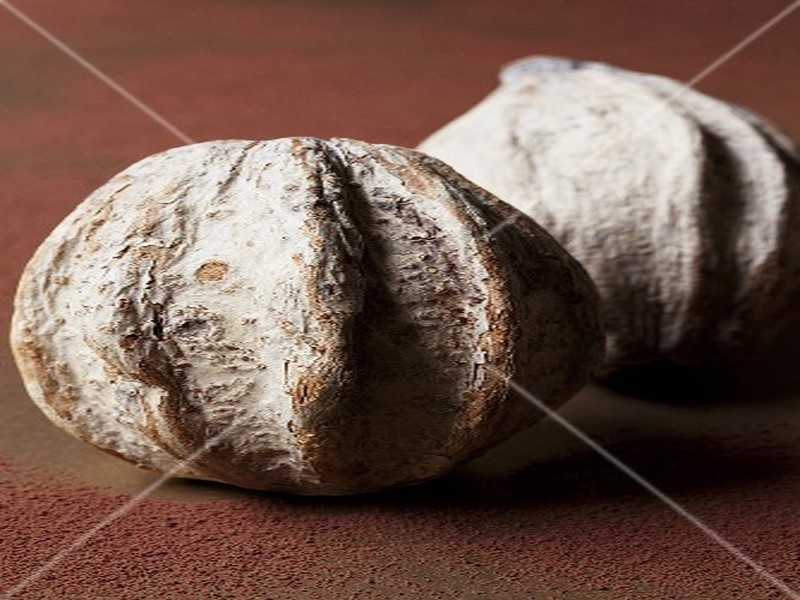Cacaopod: (18, 88, 605, 498)
